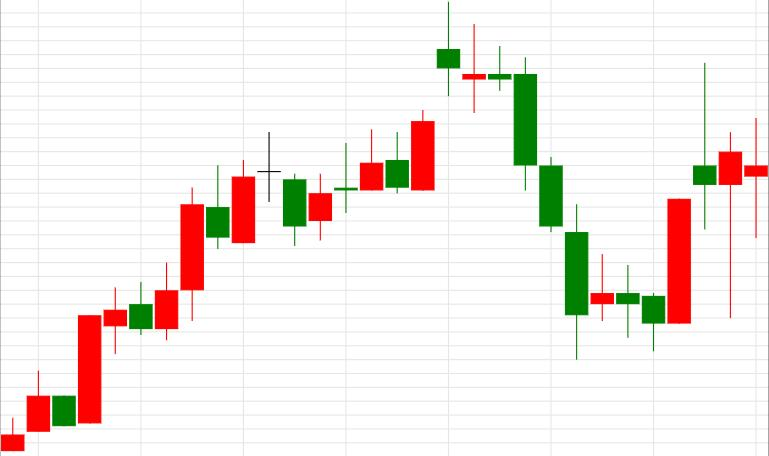evening_star_fall: (79, 133, 306, 423)
shooting_star_fall: (78, 165, 229, 422)
three_black_crows_fall: (360, 1, 588, 360)
